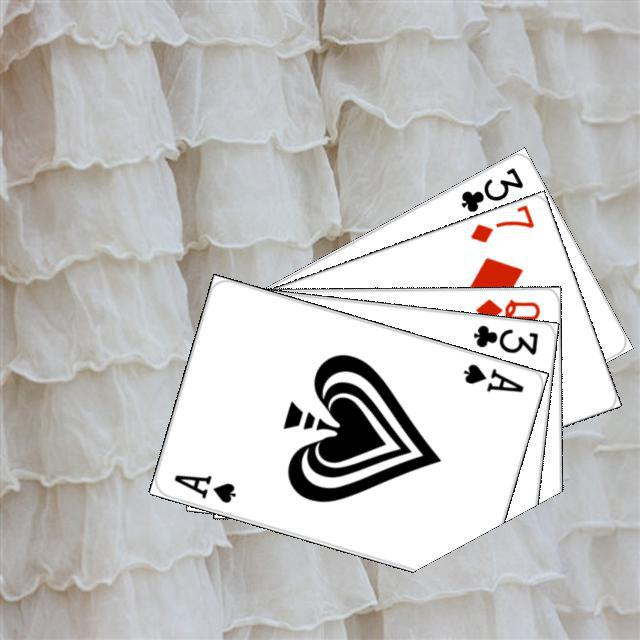3c: (455, 162, 525, 214), (468, 319, 540, 357)
7d: (465, 201, 536, 245)
As: (169, 469, 238, 505), (458, 358, 526, 394)
Qd: (471, 294, 541, 323)
